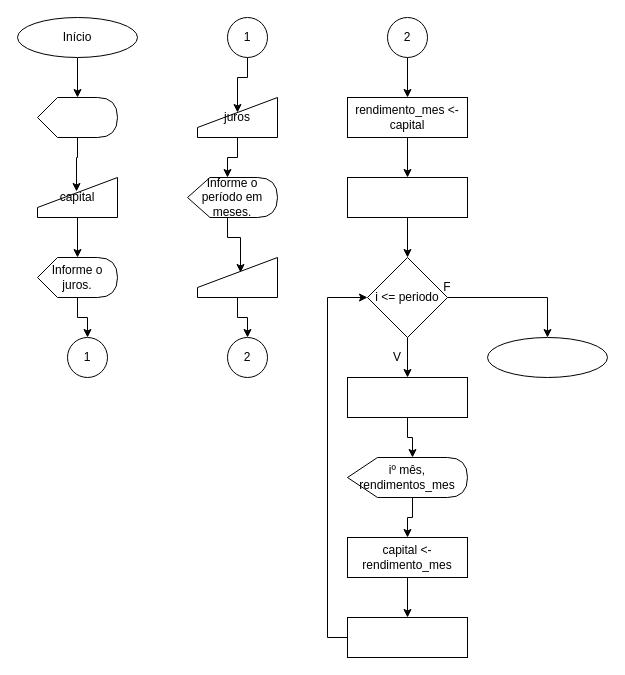
The diagram is 625 pixels wide and 675 high, and some of its shapes have lost their labels. Each missing label, with the centre of its shape:
Fim: point 547,357
i <- 1: point 407,197
i <- i + 1: point 407,637
Informe o capital.: point 77,117
periodo: point 237,277
rendimento_mes <- rendimento_mes + capital * ( juros / 100 ): point 407,397
